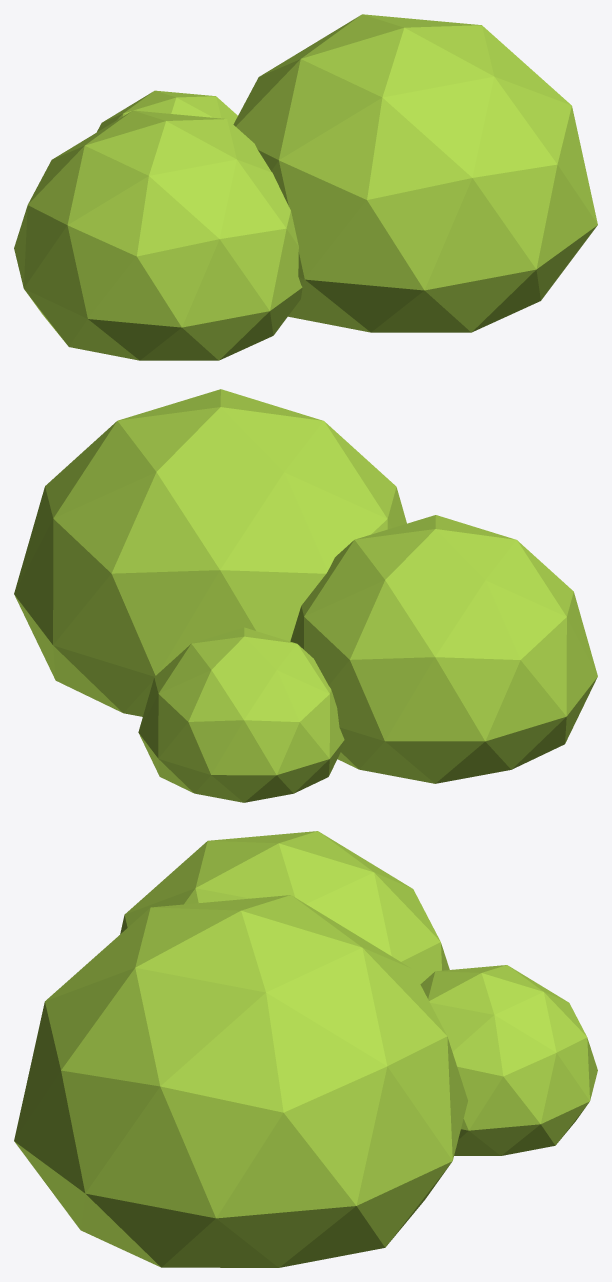
The model's file is ENV_BushCluster01_Placeholder02.fbx.
3 views of the same model, one above another, from view 1: azimuth 30°, elevation 25°; view 2: azimuth 150°, elevation 25°; view 3: azimuth 270°, elevation 25° (orthographic). The views are drawn at different scales.
Parts seen in each view (by area): view 1: Icosphere, Icosphere.001, Icosphere.002; view 2: Icosphere, Icosphere.001, Icosphere.002; view 3: Icosphere, Icosphere.002, Icosphere.001.
Part boxes in pixels (x1,y1,x2,y2): Icosphere: (233, 14, 597, 332); Icosphere.001: (14, 110, 302, 360); Icosphere.002: (97, 90, 237, 131); Icosphere: (14, 389, 406, 716); Icosphere.001: (290, 515, 597, 783); Icosphere.002: (138, 627, 344, 802); Icosphere: (14, 895, 467, 1267); Icosphere.002: (420, 965, 597, 1155); Icosphere.001: (120, 831, 449, 983).
Bounding box in the file's own units: 252 × 307 × 134.
